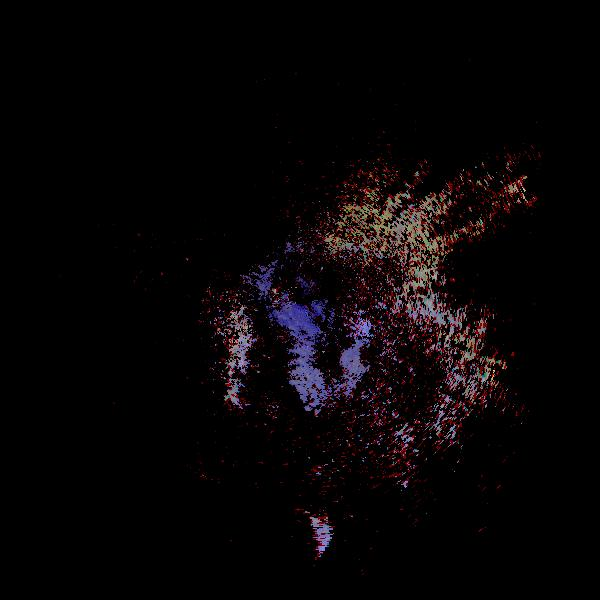roost: (276, 506, 336, 566)
